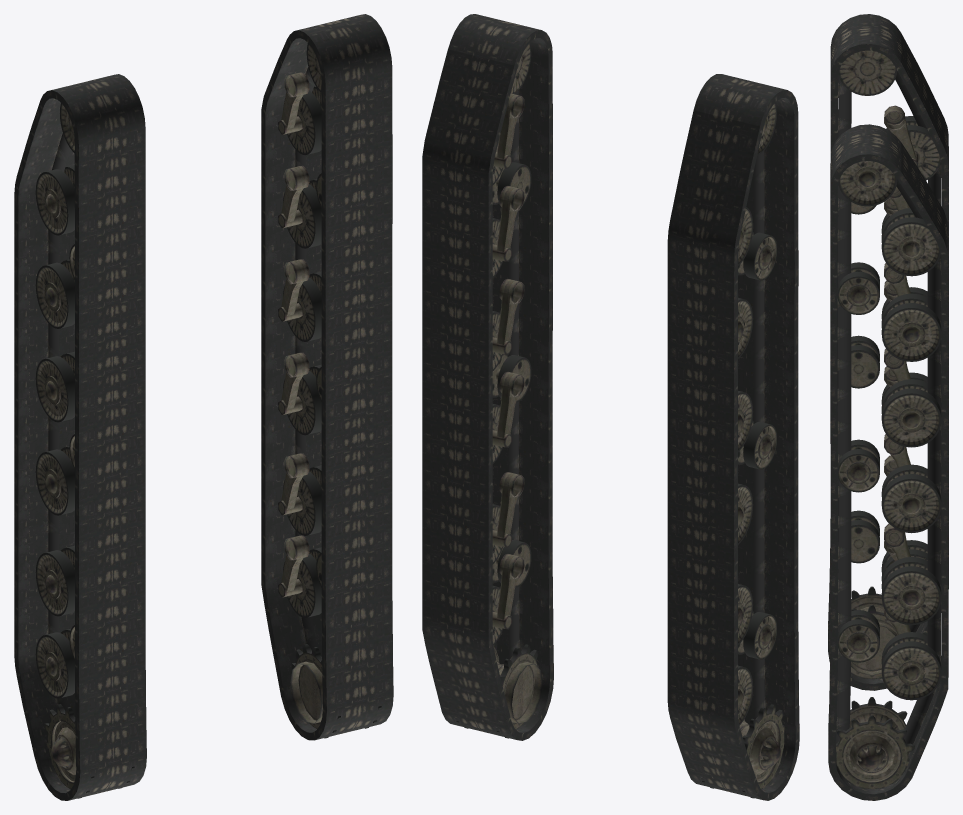
File: Chassis.glb
3 views of the same model, side by side, from view 1: azimuth 30°, elevation 25°; view 2: azimuth 150°, elevation 25°; view 3: azimuth 270°, elevation 25° (orthographic). The views are drawn at different scales.
Parts seen in each view (by area): view 1: set_0_group_0, set_1_group_0, set_3_group_0, set_2_group_0; view 2: set_0_group_0, set_1_group_0, set_3_group_0, set_2_group_0; view 3: set_3_group_0, set_1_group_0, set_2_group_0, set_0_group_0.
Boxes of the visible parts, x1,y1,x2,y2 form: set_0_group_0: [14, 74, 146, 800]; set_1_group_0: [261, 14, 393, 740]; set_3_group_0: [278, 43, 381, 738]; set_2_group_0: [35, 103, 134, 798]; set_0_group_0: [667, 74, 799, 800]; set_1_group_0: [422, 14, 553, 740]; set_3_group_0: [456, 43, 542, 738]; set_2_group_0: [702, 103, 784, 798]; set_3_group_0: [835, 161, 941, 789]; set_1_group_0: [828, 124, 948, 800]; set_2_group_0: [838, 50, 941, 679]; set_0_group_0: [828, 14, 948, 690].
Bounding box in the file's own units: 3.11 × 6.58 × 1.11.
Materials: 4 (4 with a texture image).
